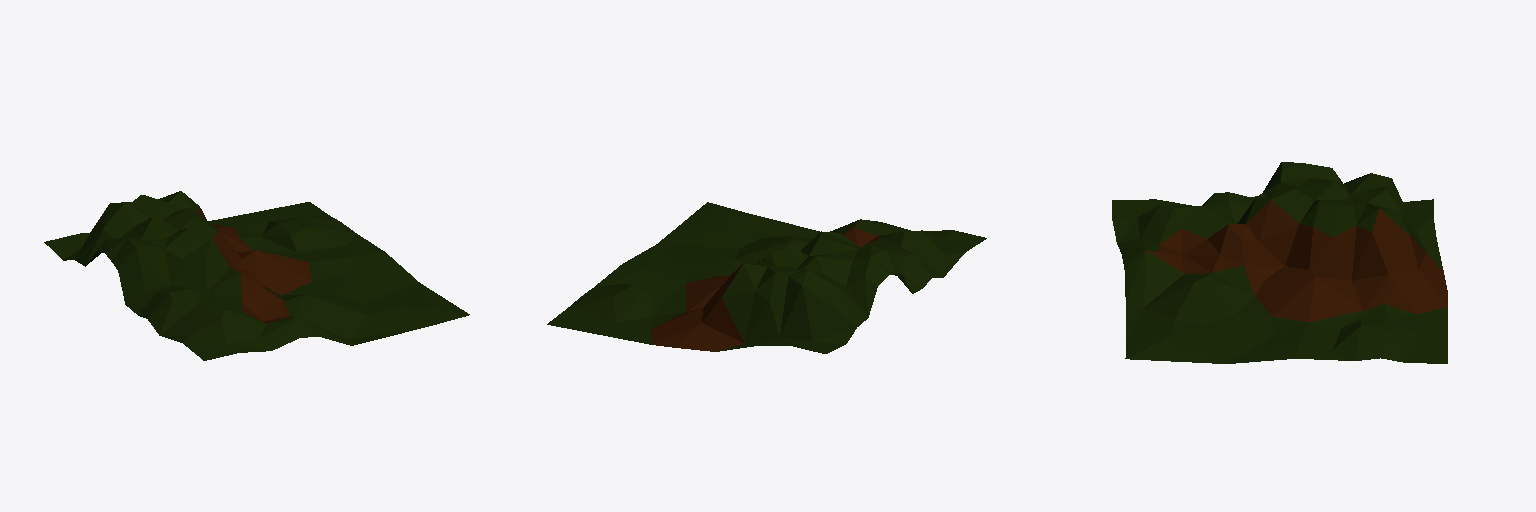
The model's file is Utes.obj.
The picture shows the model from 3 angles: view 1: azimuth 30°, elevation 25°; view 2: azimuth 150°, elevation 25°; view 3: azimuth 270°, elevation 25°; orthographic projection.
Visible parts, largest first — view 1: Plane_Plane.001; view 2: Plane_Plane.001; view 3: Plane_Plane.001.
Boxes of the visible parts, <box> form: Plane_Plane.001: <box>44,191,469,360</box>; Plane_Plane.001: <box>547,202,986,353</box>; Plane_Plane.001: <box>1112,162,1447,363</box>.
Bounding box in the file's own units: 1.97 × 0.5625 × 2.09.